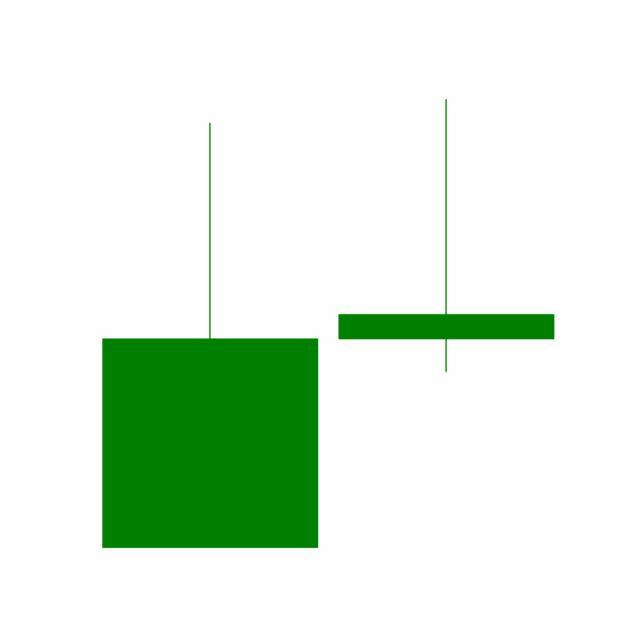Spinning Top: (328, 97, 566, 376)
